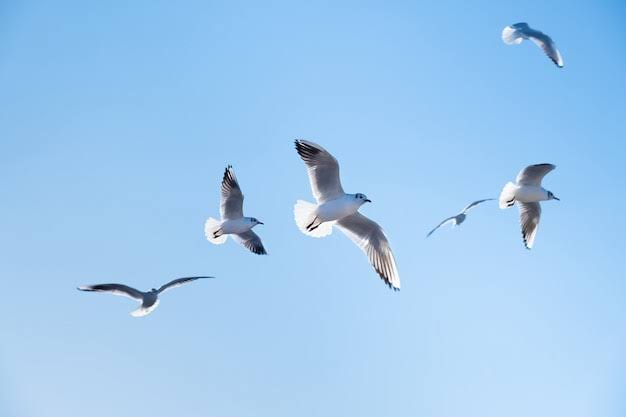burung: (283, 127, 409, 296), (493, 154, 572, 254), (72, 274, 231, 322), (196, 158, 269, 260), (492, 12, 577, 76), (419, 184, 486, 254)
